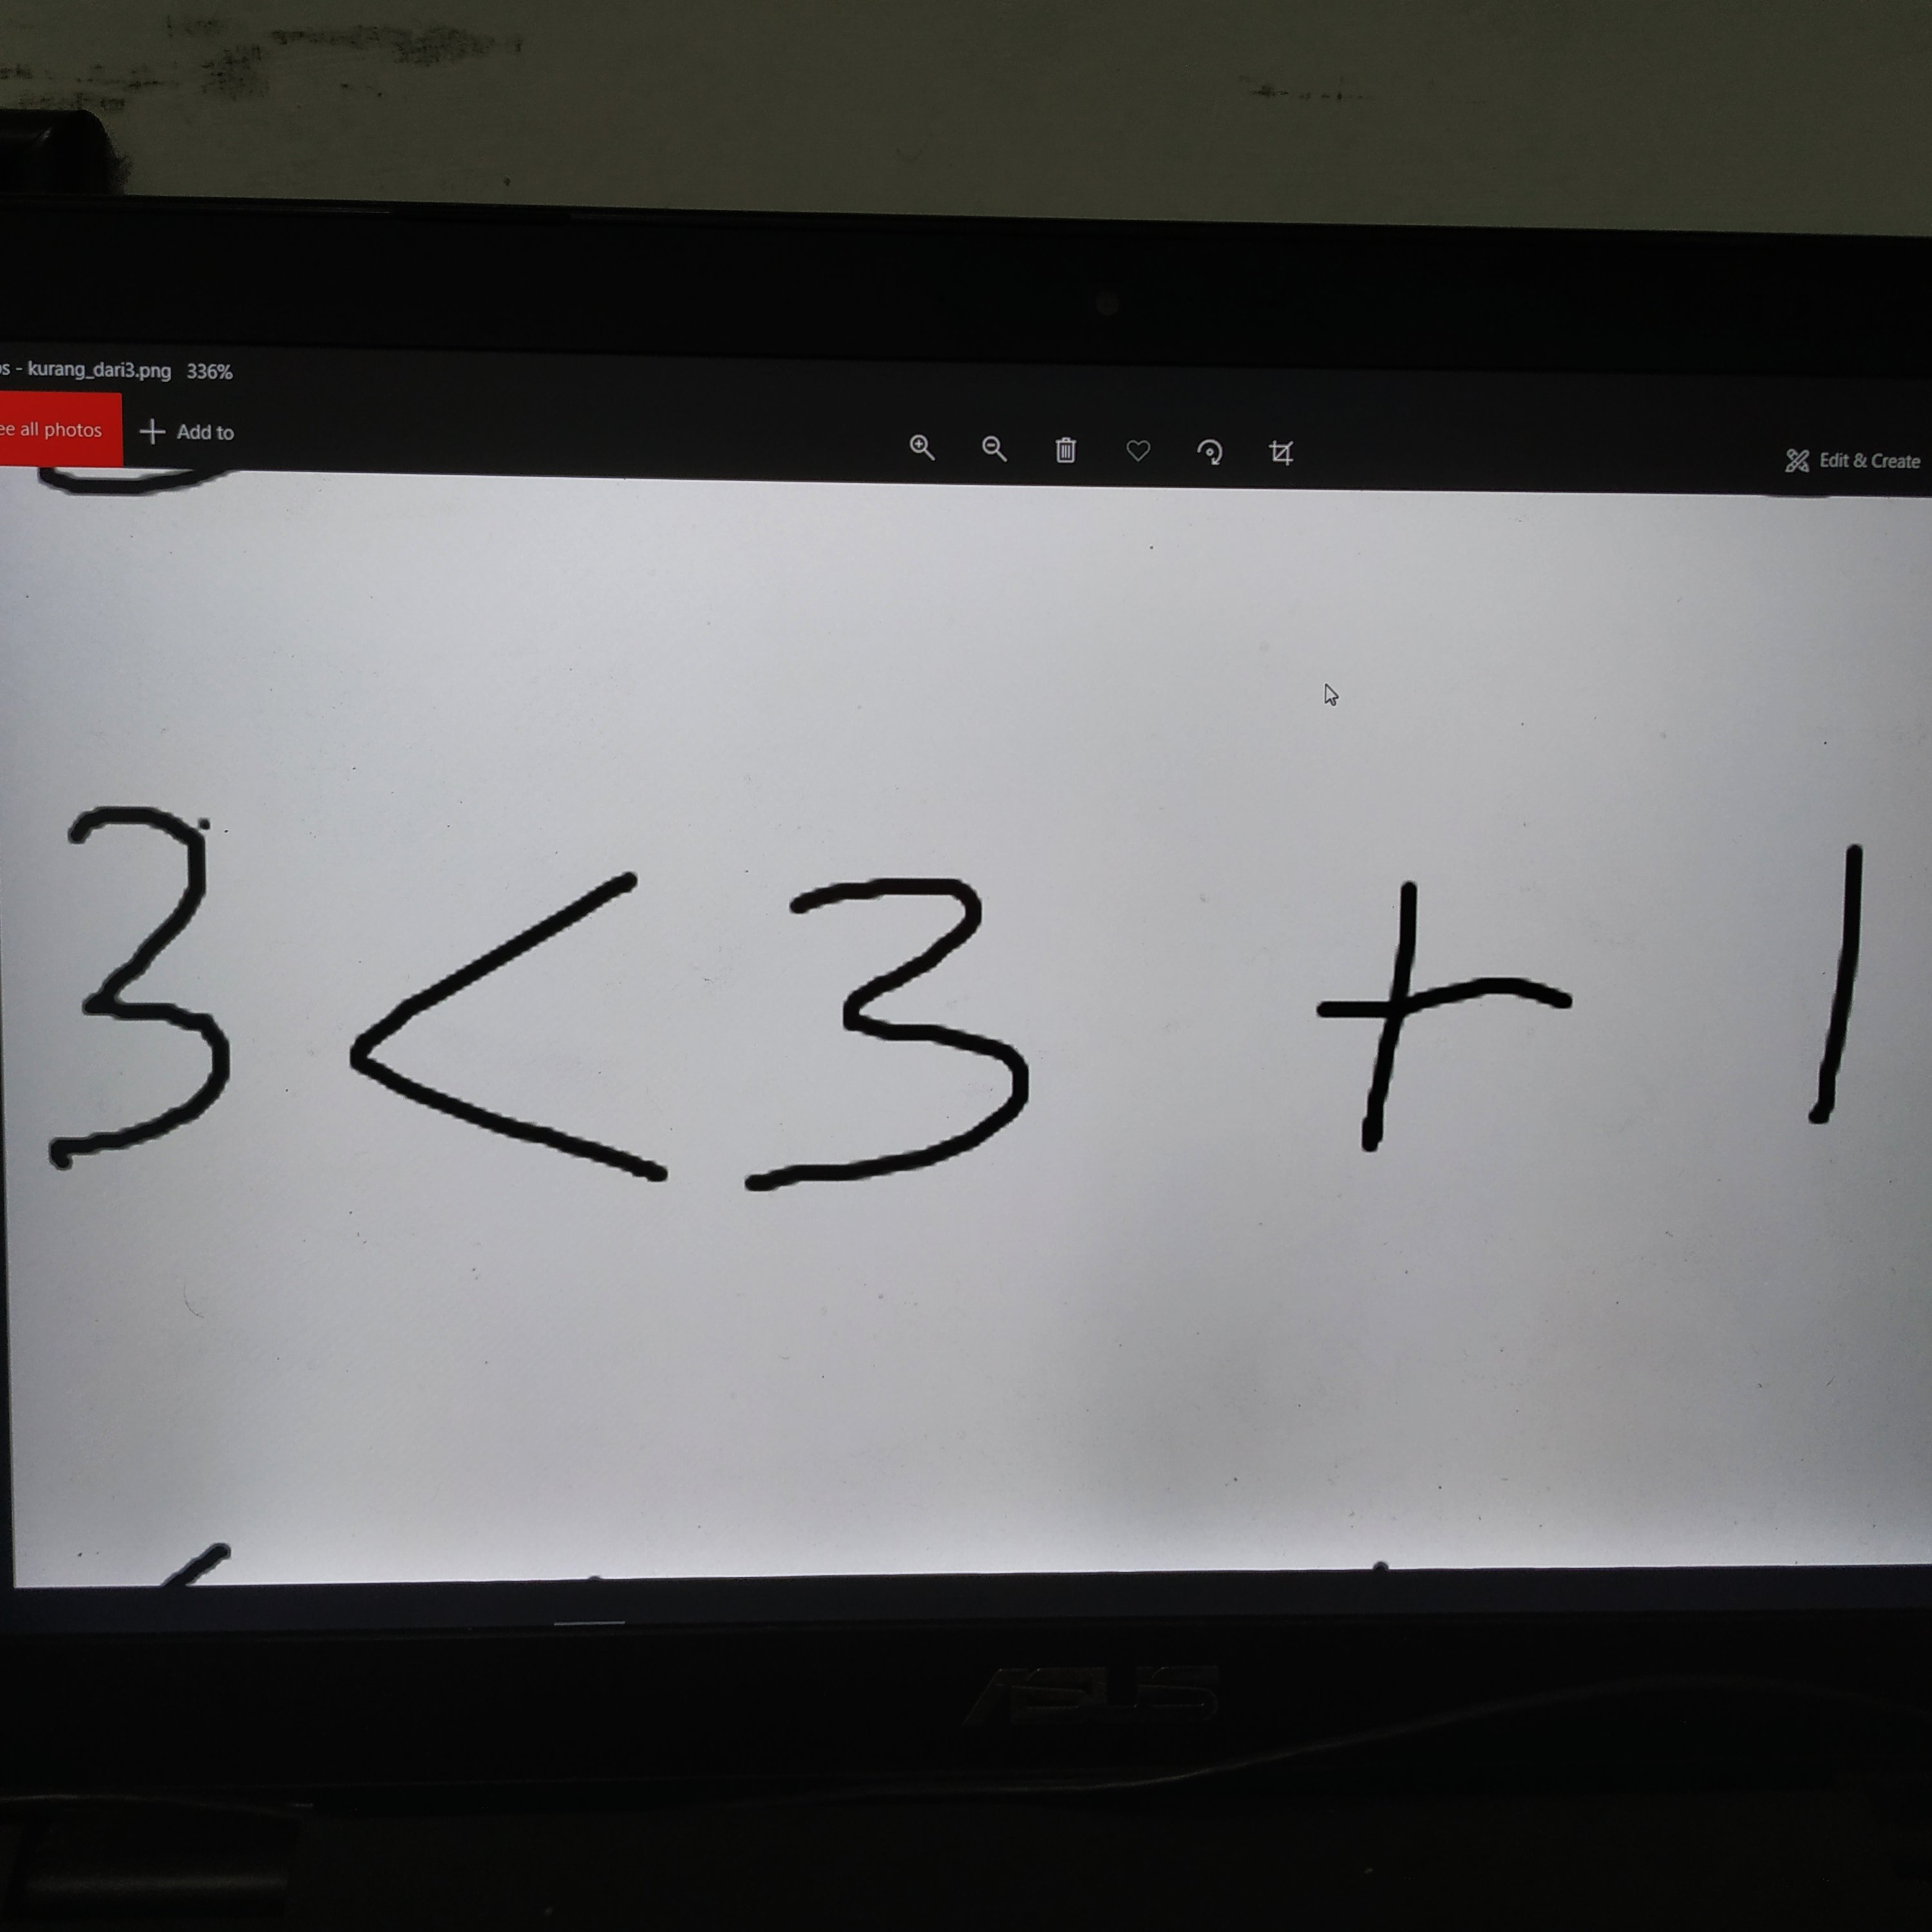lessthan: (342, 856, 699, 1198)
num1: (1800, 827, 1893, 1162)
num3: (742, 880, 1045, 1198), (33, 793, 266, 1178)
sum: (1308, 866, 1595, 1176)
